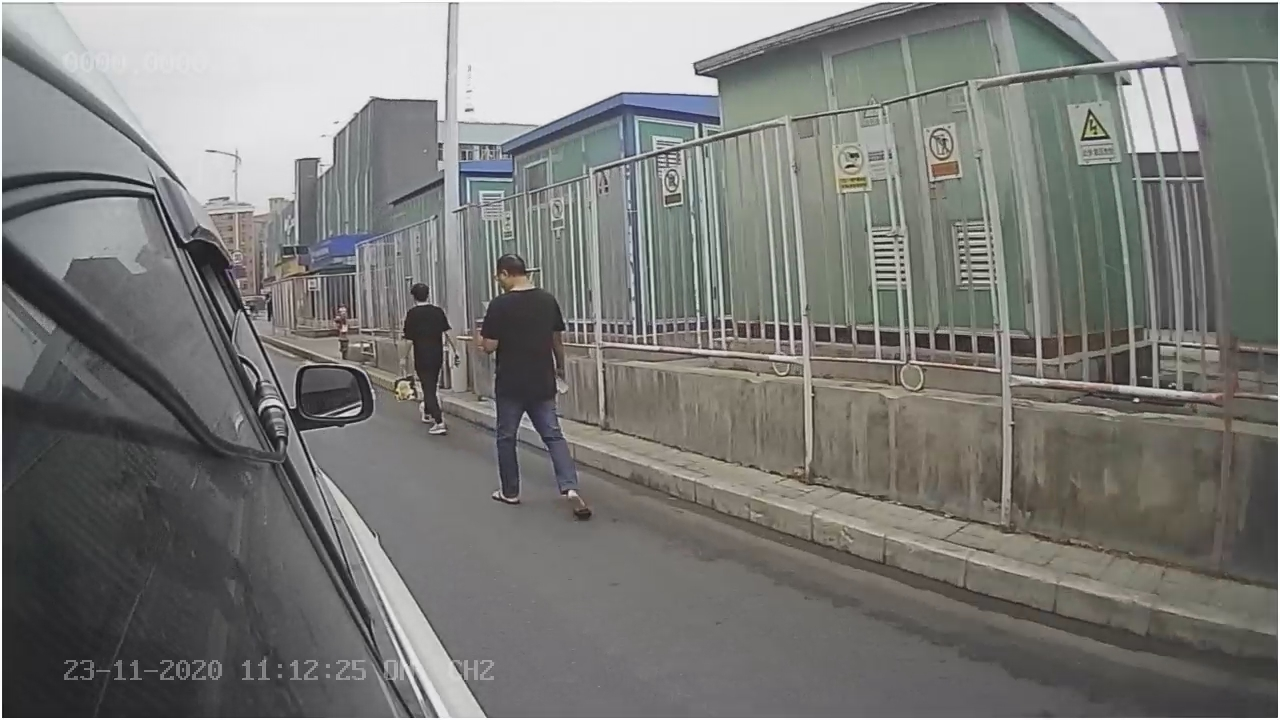person: (480, 258, 594, 521)
